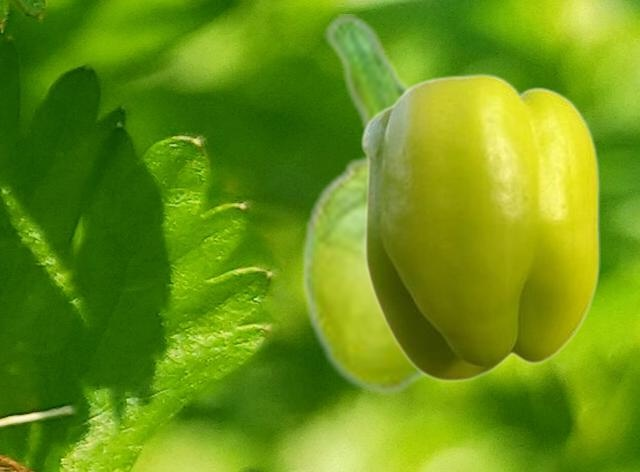bell_pepper: (360, 72, 599, 381), (299, 14, 430, 394)
